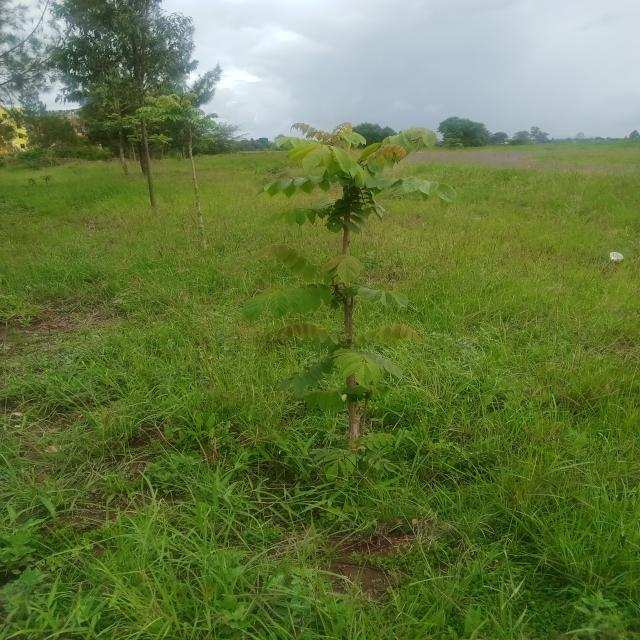Polyscias Kikuyensis: (254, 120, 473, 437), (128, 86, 245, 251)
